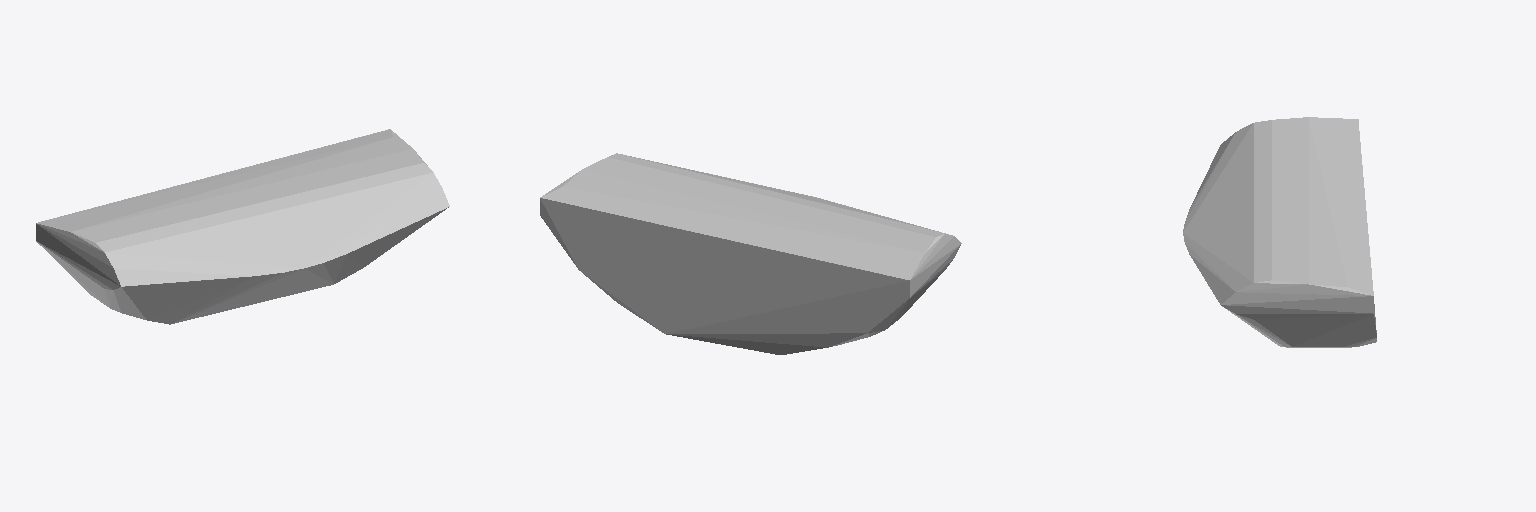
The model's file is M103 Front_bottom_plate.obj.
3 renders of one model, left to right at view 1: azimuth 30°, elevation 25°; view 2: azimuth 150°, elevation 25°; view 3: azimuth 270°, elevation 25°, orthographic.
Parts seen in each view (by area): view 1: Front_bottom_plate_american\A66_M103\normal\l\Hull.pri~11~5.003; view 2: Front_bottom_plate_american\A66_M103\normal\l\Hull.pri~11~5.003; view 3: Front_bottom_plate_american\A66_M103\normal\l\Hull.pri~11~5.003.
Part boxes in pixels (x1,y1,x2,y2): Front_bottom_plate_american\A66_M103\normal\l\Hull.pri~11~5.003: (36,129,449,324); Front_bottom_plate_american\A66_M103\normal\l\Hull.pri~11~5.003: (540,153,961,354); Front_bottom_plate_american\A66_M103\normal\l\Hull.pri~11~5.003: (1183,117,1376,347).
Bounding box in the file's own units: 126 × 37.15 × 58.37.